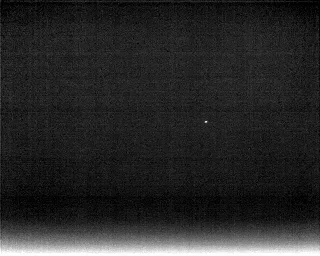AIRPLANE: (202, 118, 210, 126)
